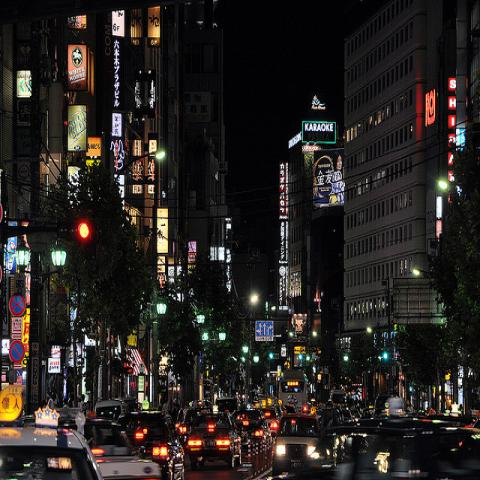bus: (278, 370, 309, 415)
car: (59, 417, 164, 479), (0, 419, 107, 479), (182, 411, 242, 479), (131, 434, 185, 479), (275, 416, 322, 467), (231, 410, 270, 450), (177, 405, 210, 449), (135, 412, 170, 442), (115, 410, 144, 445), (94, 399, 125, 422), (263, 406, 279, 436), (215, 397, 238, 415)
